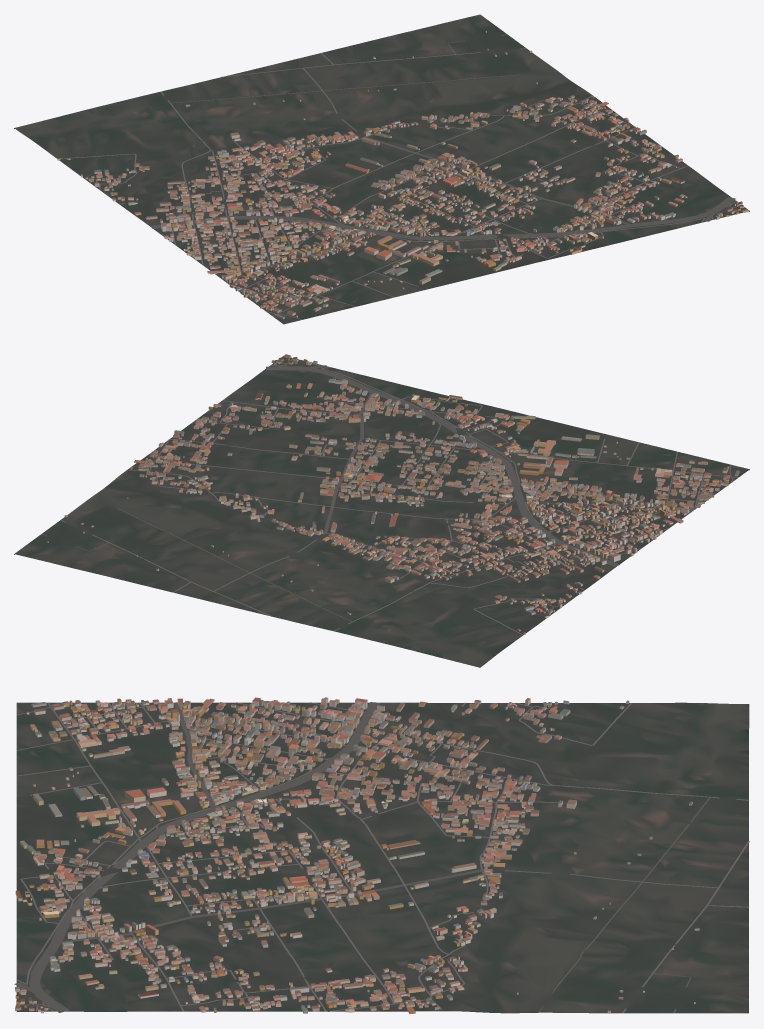
The picture shows the model from 3 angles, top to bottom: view 1: azimuth 30°, elevation 25°; view 2: azimuth 150°, elevation 25°; view 3: azimuth 270°, elevation 25°; orthographic projection. The views are drawn at different scales.
Parts seen in each view (by area): view 1: ground, buildings, roads; view 2: ground, buildings, roads; view 3: ground, buildings, roads.
Part boxes in pixels (x1,y1,x2,y2): ground: (14, 14, 749, 324); buildings: (57, 31, 748, 319); roads: (60, 34, 739, 319); ground: (14, 356, 749, 667); buildings: (47, 354, 739, 634); roads: (41, 359, 738, 635); ground: (16, 702, 749, 1013); buildings: (15, 697, 699, 1013); roads: (14, 702, 749, 1013).
Bounding box in the file's own units: 1424 × 24.12 × 1409.
